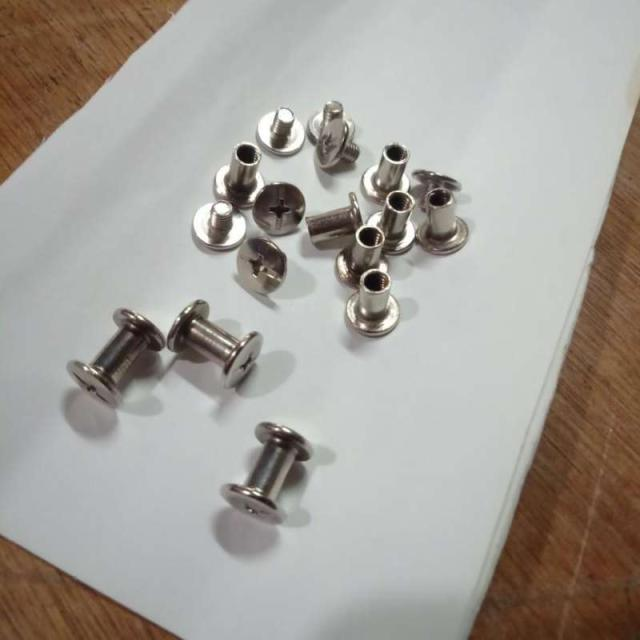Logam: (99, 24, 561, 548)
